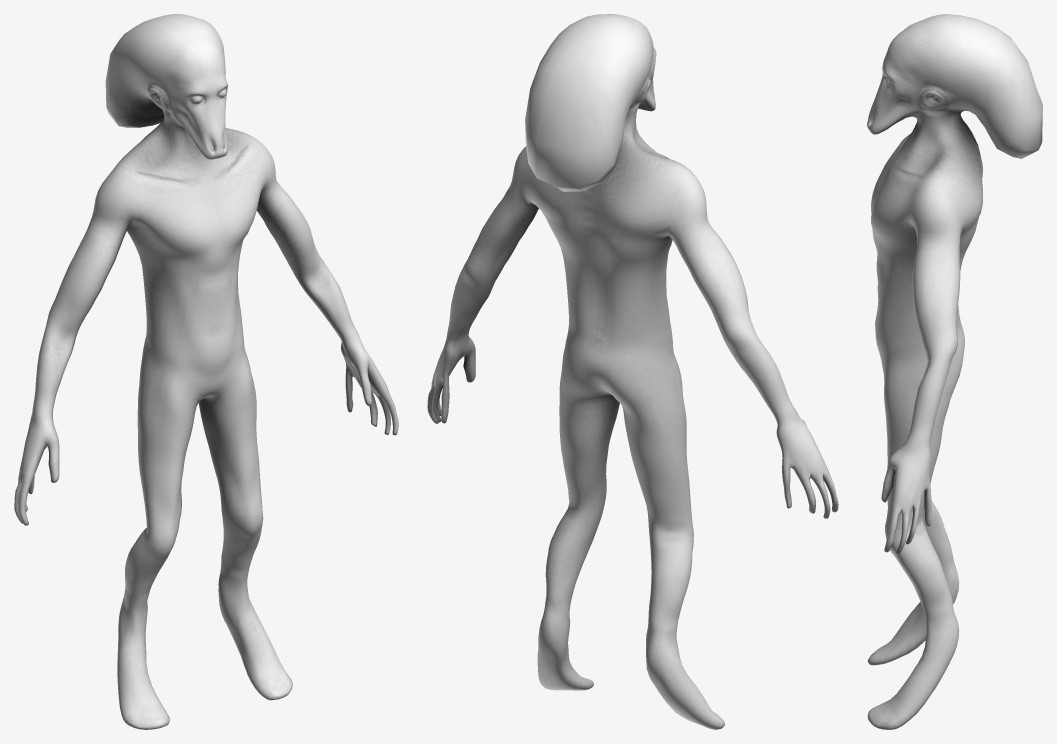
File: LP_char.fbx
3 views of the same model, side by side, from view 1: azimuth 30°, elevation 25°; view 2: azimuth 150°, elevation 25°; view 3: azimuth 270°, elevation 25° (orthographic). The views are drawn at different scales.
Visible parts, largest first — view 1: humanBody; view 2: humanBody; view 3: humanBody.
Part boxes in pixels (box(x1,y1,x2,y2)): humanBody: box(14, 14, 398, 729); humanBody: box(427, 14, 838, 729); humanBody: box(867, 14, 1042, 729).
Size of the model in its own units: 110 by 185 by 43.99.
1 material, 1 textured.
